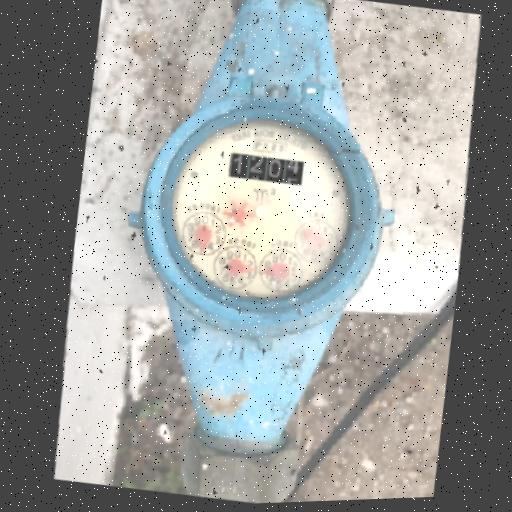0: (265, 157, 285, 183)
1: (228, 152, 251, 179)
2: (246, 154, 268, 181)
4: (283, 159, 306, 186)
border_water_meter_number: (226, 149, 306, 189)
